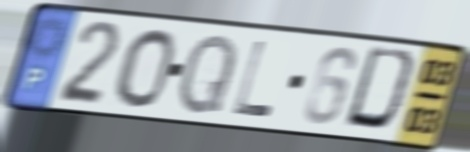2: (56, 18, 124, 109)
6: (301, 45, 359, 128)
D: (341, 43, 423, 137)
L: (229, 38, 276, 120)
O: (112, 26, 177, 110)
Q: (176, 30, 240, 117)
